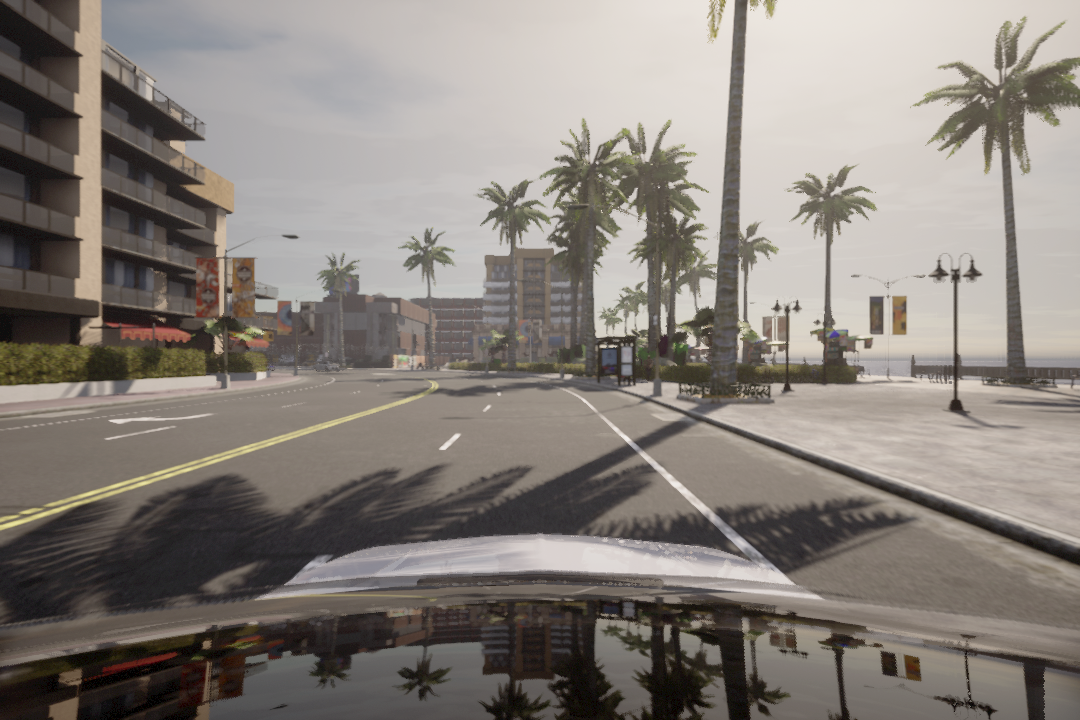RoadSign_right: (104, 408, 231, 427)
